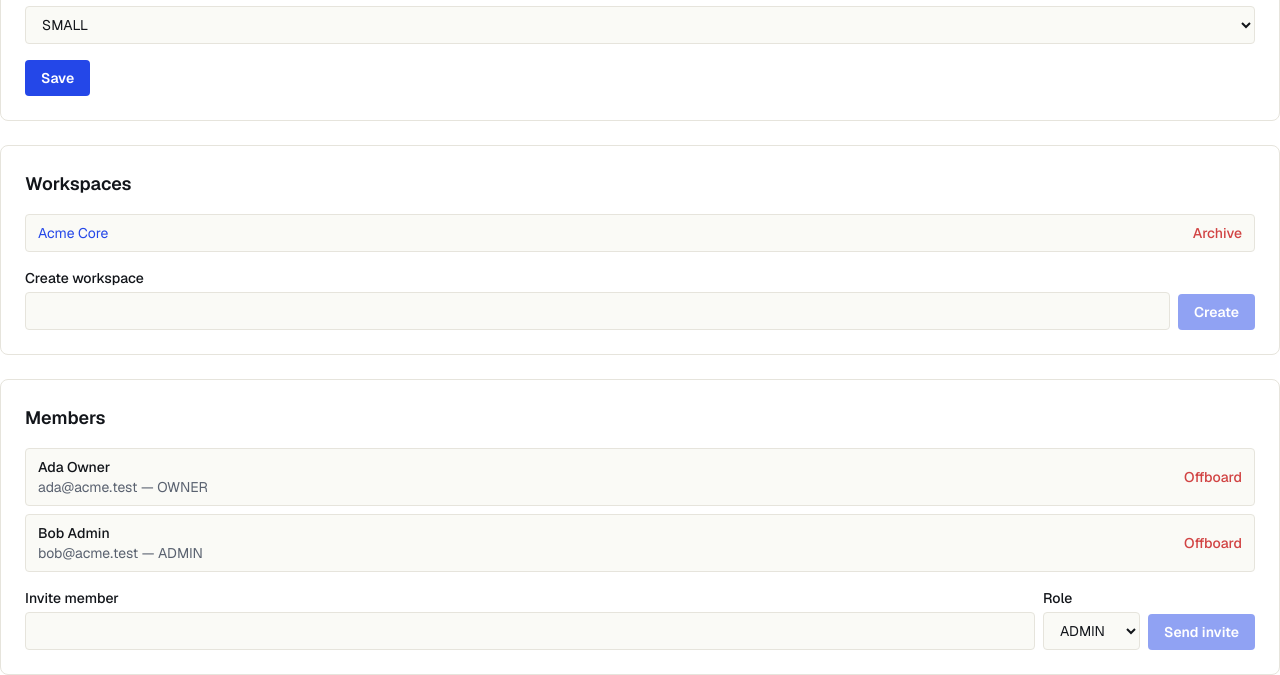
it: OrgSettings › sends an invite and displays the resulting invite URL
(page scrolled)
Type "newperson@acme.test" into the field labelled "Invite member" at (530, 631), box [25,612,1035,650]
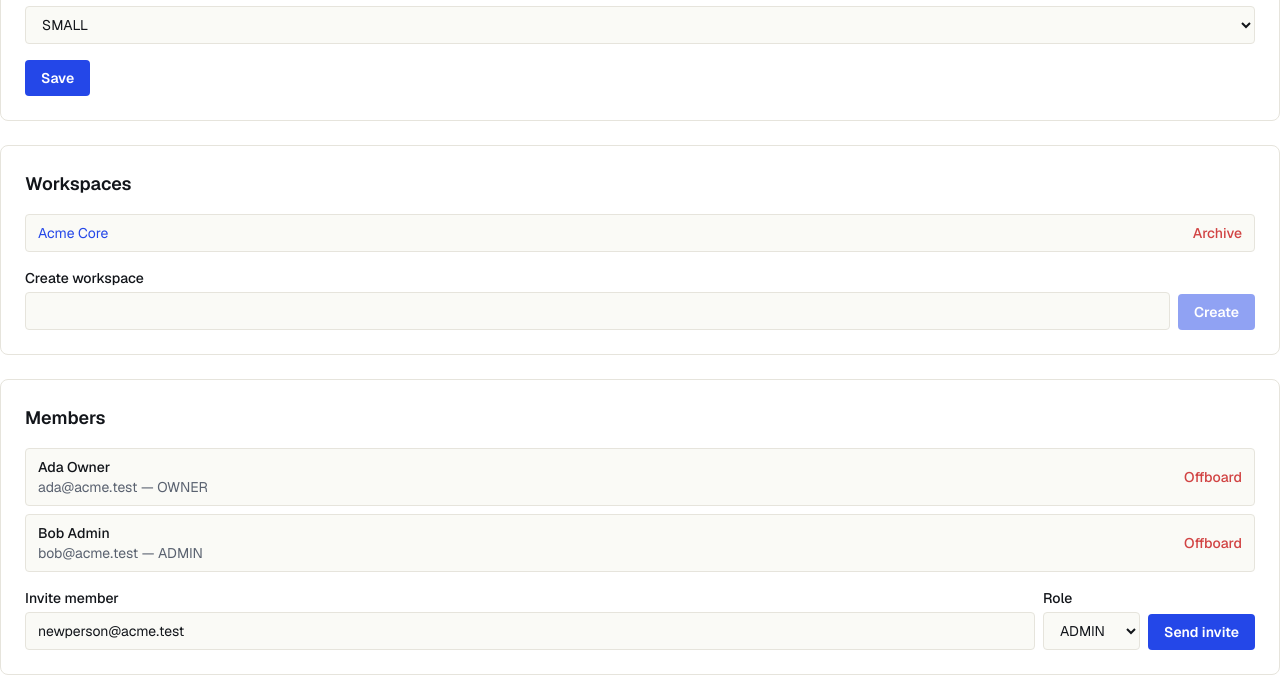
Click the button "Send invite" at (1201, 632), box [1148,614,1255,650]
(page scrolled)
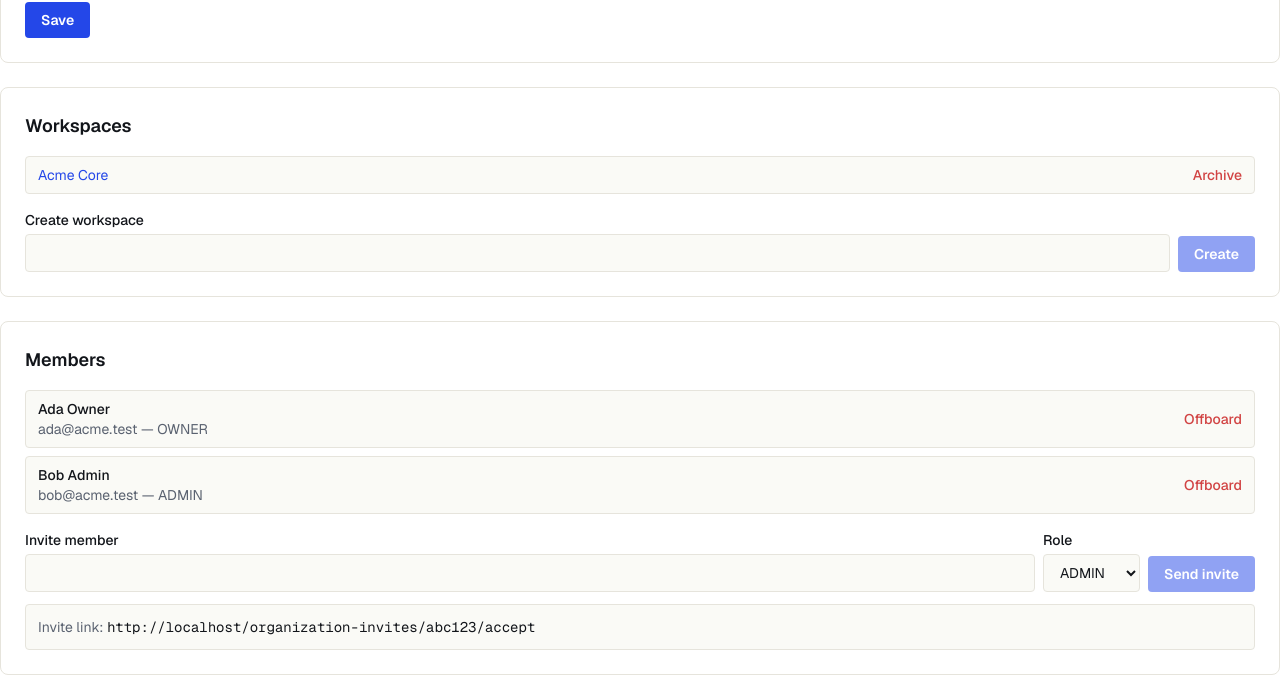
Expected: the text "http://localhost/organization-invites/abc123/accept" is shown, [107,618,535,636]
